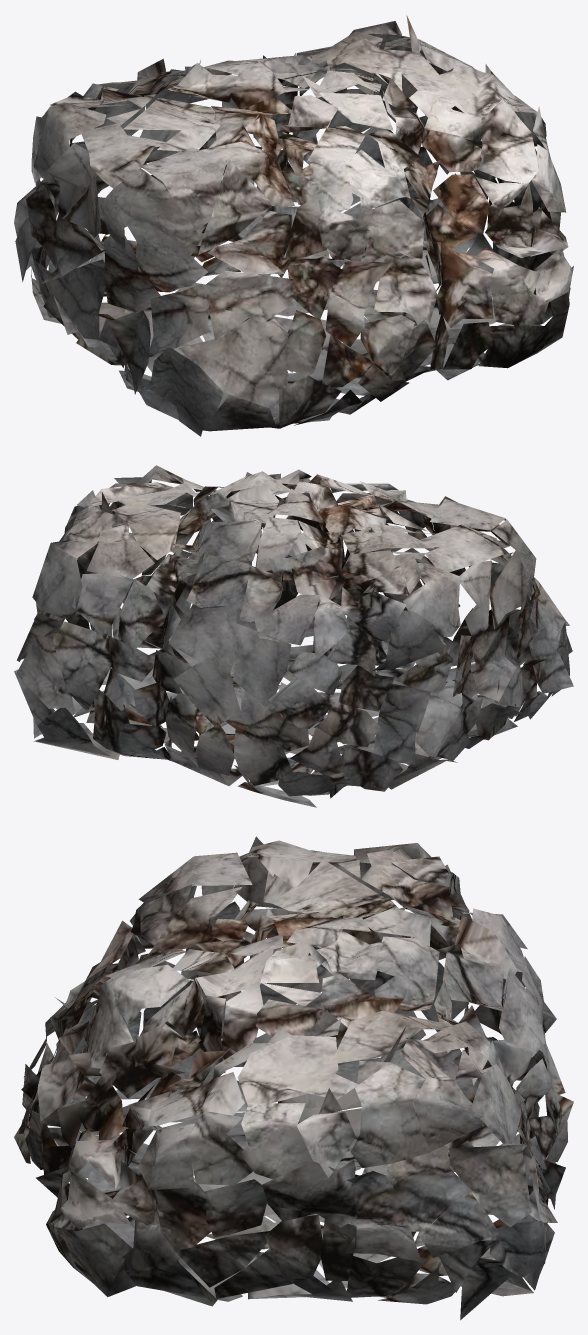
The model's file is granite-a.glb.
The picture shows the model from 3 angles, top to bottom: view 1: azimuth 30°, elevation 25°; view 2: azimuth 150°, elevation 25°; view 3: azimuth 270°, elevation 25°; orthographic projection. The views are drawn at different scales.
Parts seen in each view (by area): view 1: Mesh_0; view 2: Mesh_0; view 3: Mesh_0.
Boxes of the visible parts, left/top/right/bottom form: Mesh_0: left=14, top=15, right=573, bottom=436; Mesh_0: left=14, top=465, right=573, bottom=807; Mesh_0: left=14, top=836, right=573, bottom=1320.
Size of the model in its own units: 2.56 by 1.33 by 2.33.
Materials: 1 (1 with a texture image).
